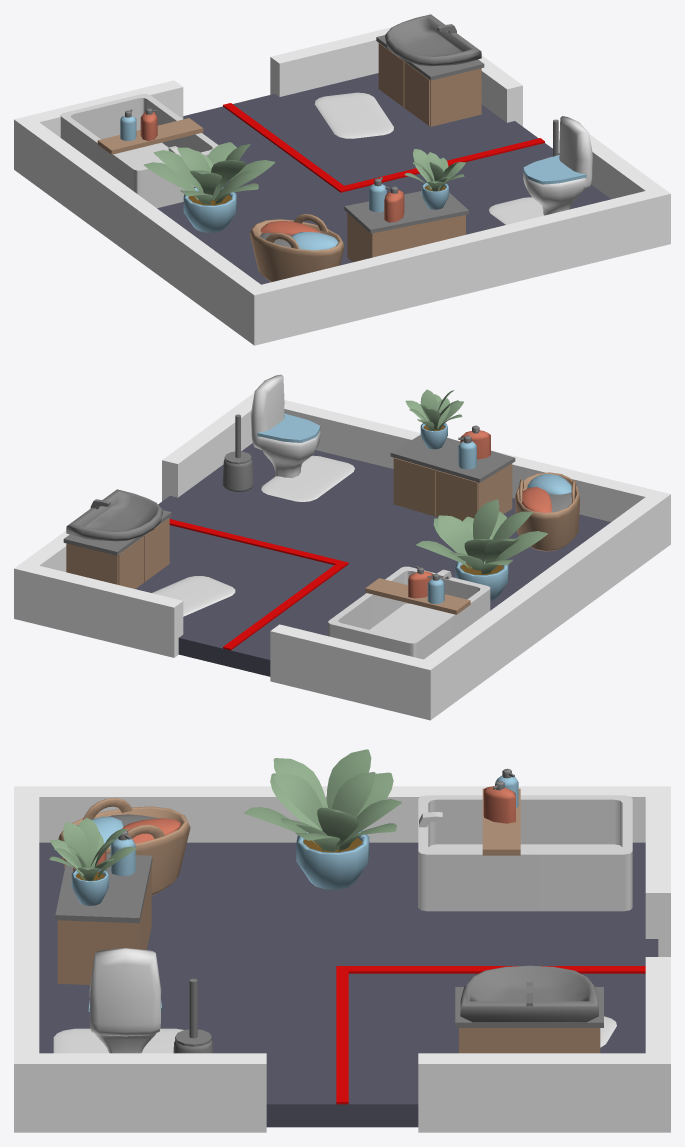
The model's file is L_SalleDeBain_Classique.fbx.
The picture shows the model from 3 angles, top to bottom: view 1: azimuth 30°, elevation 25°; view 2: azimuth 150°, elevation 25°; view 3: azimuth 270°, elevation 25°; orthographic projection. The views are drawn at different scales.
Parts seen in each view (by area): view 1: L_SalleDeBain_Classique; view 2: L_SalleDeBain_Classique; view 3: L_SalleDeBain_Classique.
Boxes of the visible parts, x1=… form: L_SalleDeBain_Classique: x1=14, y1=14, x2=670, y2=345; L_SalleDeBain_Classique: x1=14, y1=374, x2=670, y2=720; L_SalleDeBain_Classique: x1=14, y1=749, x2=670, y2=1132.
Size of the model in its own units: 26 by 7.16 by 26.
